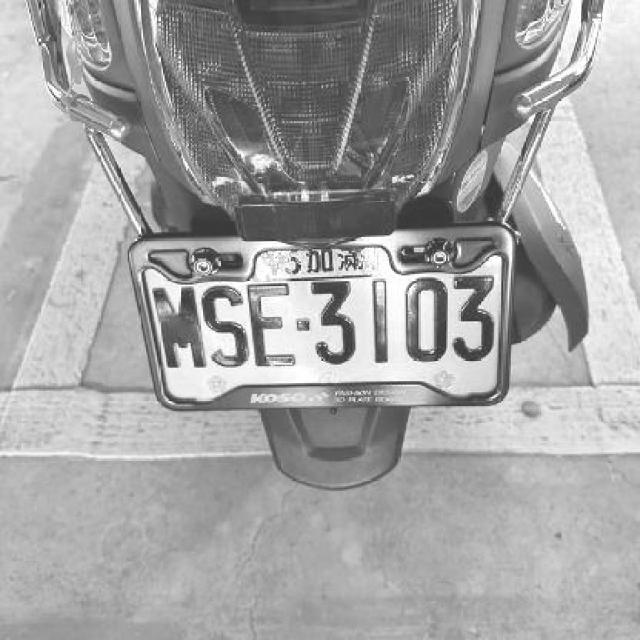-: (295, 316, 311, 332)
0: (402, 272, 448, 363)
1: (366, 276, 389, 362)
3: (311, 279, 357, 366), (451, 274, 495, 363)
E: (244, 280, 298, 369)
M: (150, 282, 206, 368), (198, 282, 248, 369)
